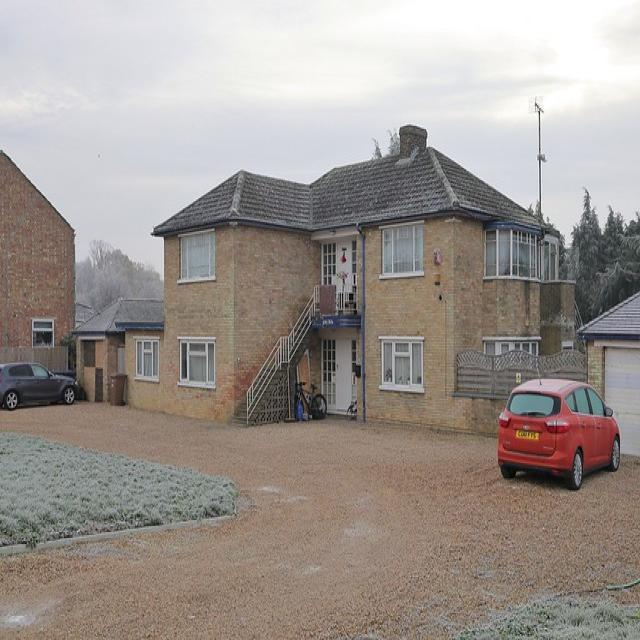Normal_building: (150, 120, 565, 430)
